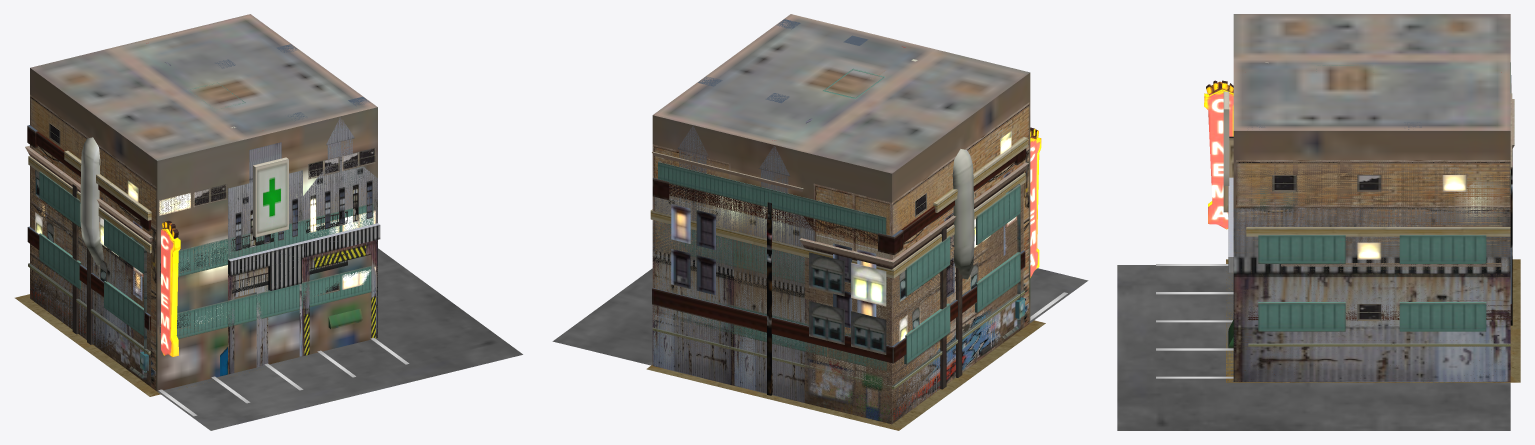
Rendered from quartiers.glb.
The picture shows the model from 3 angles, left to right: view 1: azimuth 30°, elevation 25°; view 2: azimuth 150°, elevation 25°; view 3: azimuth 270°, elevation 25°; orthographic projection. The views are drawn at different scales.
Visible parts, largest first — view 1: immeuble-loin, conserverie, lavomatique, clinique, barre, immeuble, cinema, appartements, basket; view 2: immeuble-loin, conserverie, immeuble, barre, clinique, appartements, lavomatique, cinema, basket; view 3: immeuble-loin, conserverie, lavomatique, barre, clinique, cinema, basket, appartements, immeuble.
Part boxes in pixels (bbox=[...]): immeuble-loin: bbox=[30, 14, 377, 391]; conserverie: bbox=[30, 117, 380, 376]; lavomatique: bbox=[157, 126, 522, 430]; clinique: bbox=[39, 82, 373, 339]; barre: bbox=[30, 62, 375, 390]; immeuble: bbox=[25, 145, 362, 386]; cinema: bbox=[28, 150, 180, 356]; appartements: bbox=[27, 44, 369, 330]; basket: bbox=[15, 43, 273, 396]; immeuble-loin: bbox=[652, 14, 1030, 423]; conserverie: bbox=[652, 125, 970, 423]; immeuble: bbox=[652, 69, 1028, 424]; barre: bbox=[652, 102, 1029, 423]; clinique: bbox=[658, 68, 1020, 371]; appartements: bbox=[652, 19, 1026, 363]; lavomatique: bbox=[552, 59, 1088, 365]; cinema: bbox=[650, 127, 1041, 389]; basket: bbox=[646, 46, 1045, 430]; immeuble-loin: bbox=[1233, 14, 1510, 381]; conserverie: bbox=[1228, 177, 1510, 381]; lavomatique: bbox=[1117, 62, 1510, 430]; barre: bbox=[1236, 160, 1510, 381]; clinique: bbox=[1223, 62, 1510, 331]; cinema: bbox=[1204, 80, 1510, 346]; basket: bbox=[1226, 72, 1520, 382]; appartements: bbox=[1223, 75, 1511, 320]; immeuble: bbox=[1228, 93, 1514, 348].
Bounding box in the file's own units: 1.47 × 1 × 1.46.
1 material, 1 textured.
